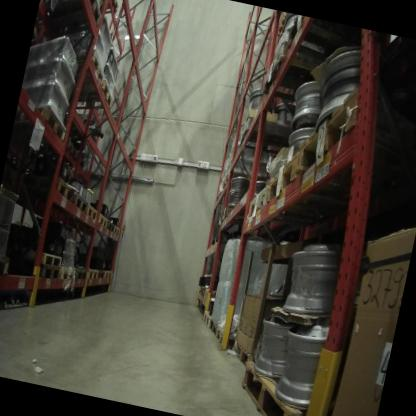pallet: (291, 75, 416, 203), (263, 146, 383, 235), (244, 171, 359, 245), (230, 352, 332, 416), (259, 43, 350, 112), (8, 102, 79, 169), (33, 0, 109, 52), (232, 114, 303, 165), (15, 172, 78, 222), (66, 71, 119, 118), (71, 46, 109, 94), (13, 255, 60, 286), (221, 164, 261, 200), (212, 322, 252, 357), (227, 338, 260, 377), (15, 242, 64, 268), (220, 203, 252, 231), (0, 246, 18, 287), (56, 260, 78, 290), (68, 196, 91, 220), (85, 200, 102, 230), (208, 312, 226, 340), (214, 186, 237, 207), (103, 0, 125, 18), (202, 305, 216, 331), (104, 213, 118, 239), (202, 287, 220, 307), (74, 263, 89, 284), (85, 266, 98, 287), (97, 212, 109, 231), (113, 223, 122, 240), (103, 269, 112, 282), (96, 268, 105, 280)
